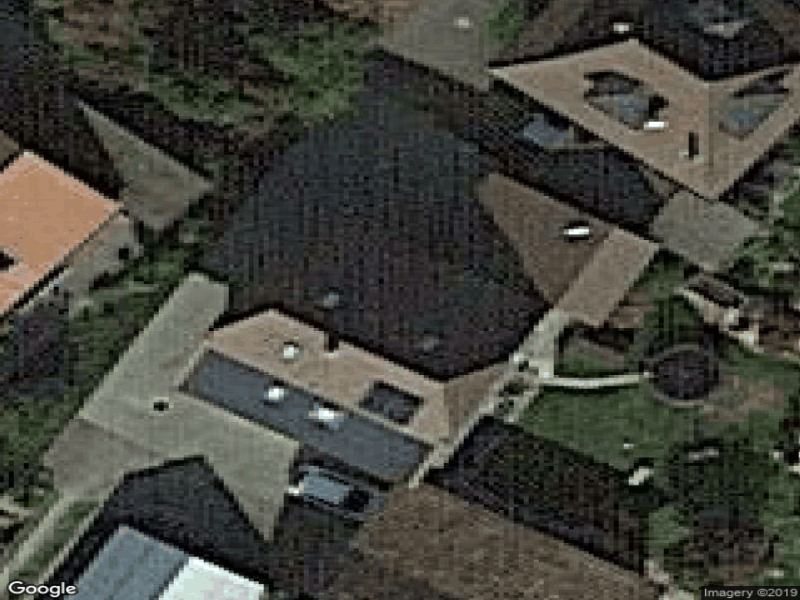pv: (185, 353, 432, 487)
